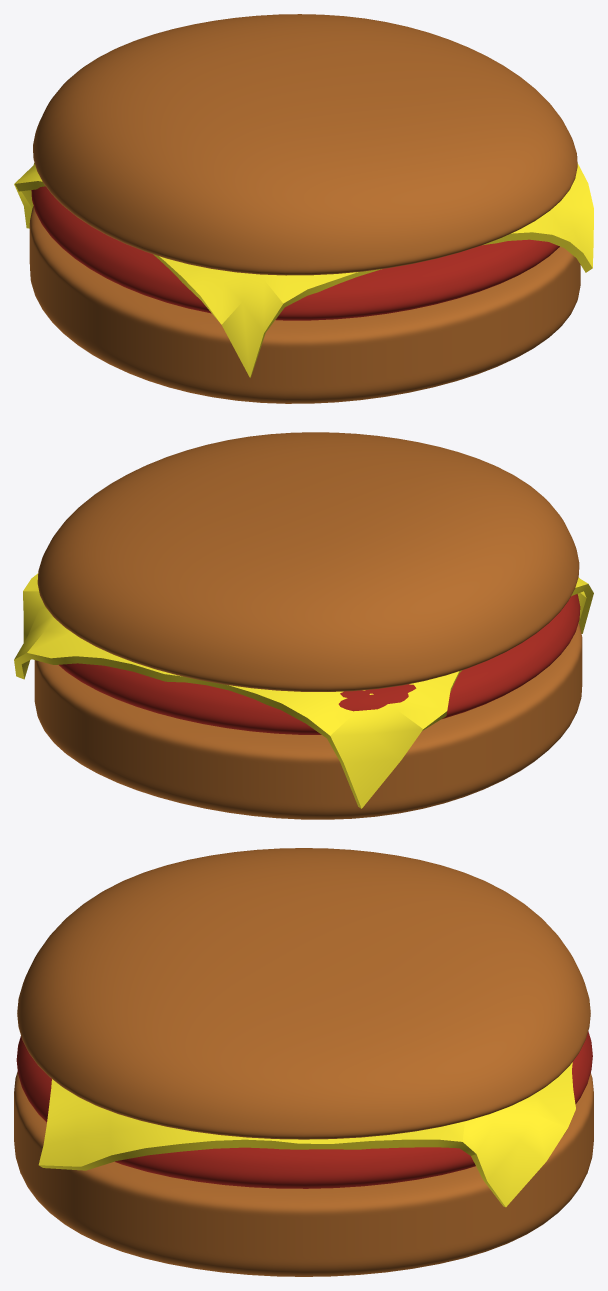
The model's file is hamburger.glb.
3 renders of one model, top to bottom at view 1: azimuth 30°, elevation 25°; view 2: azimuth 150°, elevation 25°; view 3: azimuth 270°, elevation 25°, orthographic. The views are drawn at different scales.
Visible parts, largest first — view 1: Cube.002, Cube, Cube.001, Plane; view 2: Cube.002, Cube, Plane, Cube.001; view 3: Cube.002, Cube, Plane, Cube.001.
Part boxes in pixels (bbox=[...]): Cube.002: bbox=[33, 14, 577, 275]; Cube: bbox=[29, 206, 580, 403]; Cube.001: bbox=[31, 186, 559, 320]; Plane: bbox=[14, 163, 593, 377]; Cube.002: bbox=[37, 432, 579, 691]; Cube: bbox=[34, 623, 582, 819]; Plane: bbox=[14, 573, 593, 808]; Cube.001: bbox=[58, 594, 580, 734]; Cube.002: bbox=[17, 848, 590, 1139]; Cube: bbox=[14, 1072, 593, 1276]; Plane: bbox=[38, 1062, 575, 1207]; Cube.001: bbox=[16, 1031, 592, 1188].
Size of the model in its own units: 9.04 by 4.41 by 9.04.
